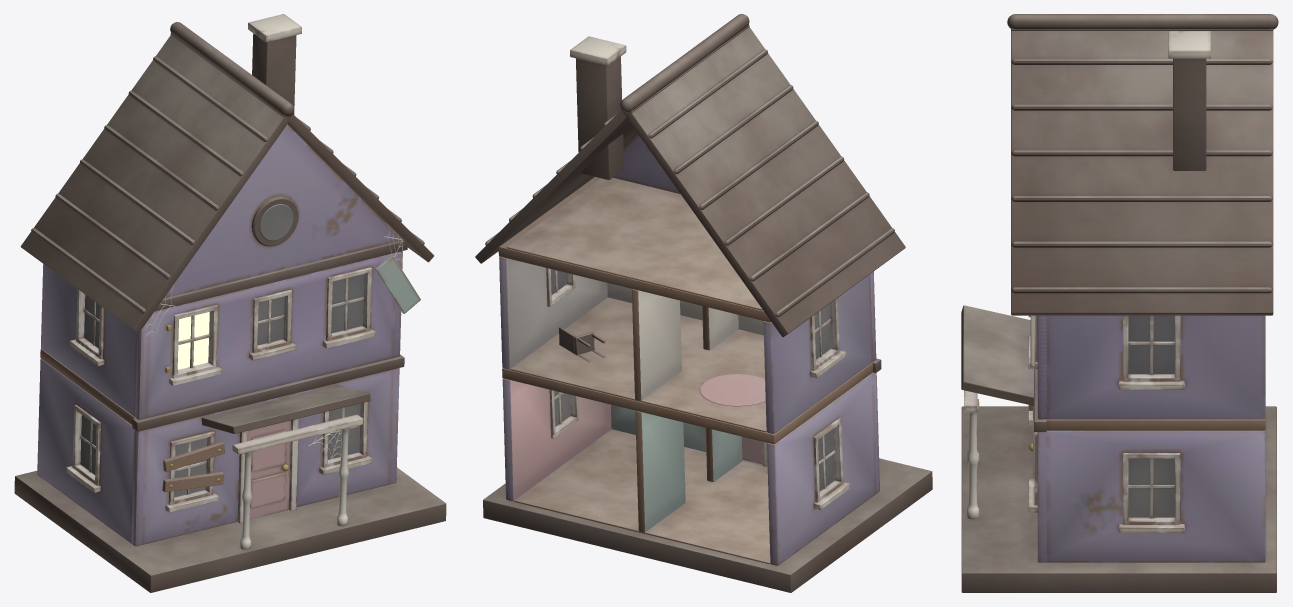
The model's file is haunted-dollhouse.glb.
The picture shows the model from 3 angles, left to right: view 1: azimuth 30°, elevation 25°; view 2: azimuth 150°, elevation 25°; view 3: azimuth 270°, elevation 25°; orthographic projection. The views are drawn at different scales.
Parts seen in each view (by area): view 1: haunted-dollhouse_body, haunted-dollhouse_window_glow, haunted-dollhouse_web; view 2: haunted-dollhouse_body; view 3: haunted-dollhouse_body.
Boxes of the visible parts, x1,y1,x2,y2 form: haunted-dollhouse_body: (14, 14, 446, 592); haunted-dollhouse_window_glow: (177, 312, 209, 369); haunted-dollhouse_web: (146, 222, 402, 464); haunted-dollhouse_body: (475, 14, 932, 592); haunted-dollhouse_body: (961, 14, 1278, 592).
Bounding box in the file's own units: 0.5368 × 0.7426 × 0.4173.
3 materials, 1 textured.
